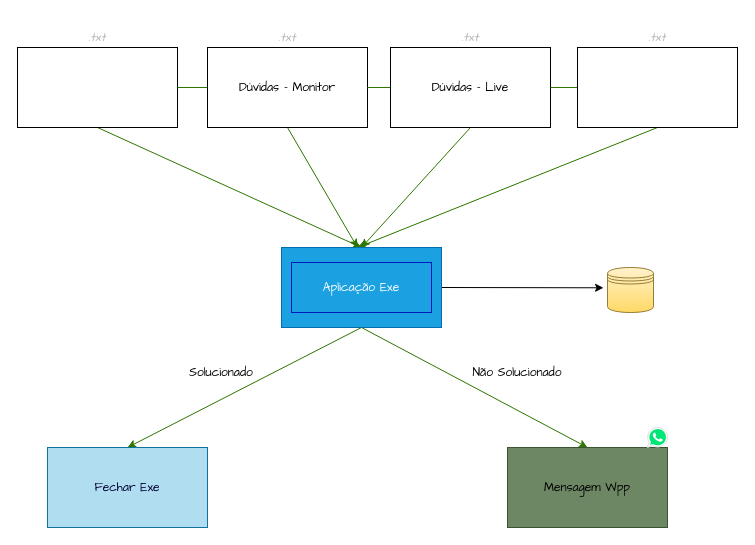
The diagram is 755 pixels wide and 545 high, and some of its shapes have lost their labels. Each missing label, with the centre of its shape:
Dúvidas - Computador: the point at 97,87
Dúvidas - Interface: the point at 657,87
